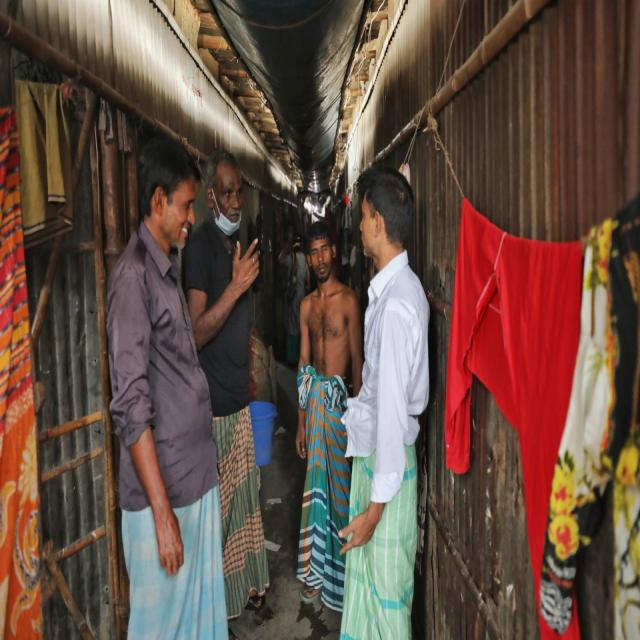human: (86, 128, 233, 640), (321, 141, 456, 640), (280, 207, 360, 630), (192, 146, 261, 619)
loitering: (96, 134, 228, 640), (330, 162, 431, 640), (194, 149, 282, 622), (284, 217, 368, 623)
